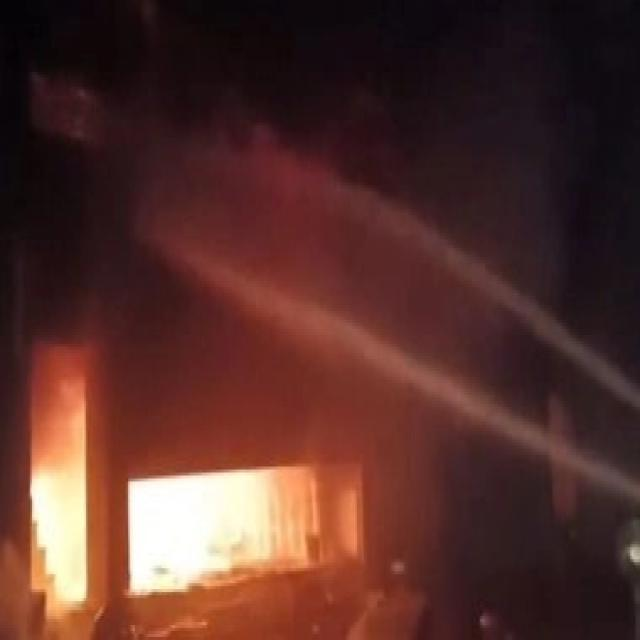fire: (128, 468, 270, 594), (32, 390, 89, 602)
